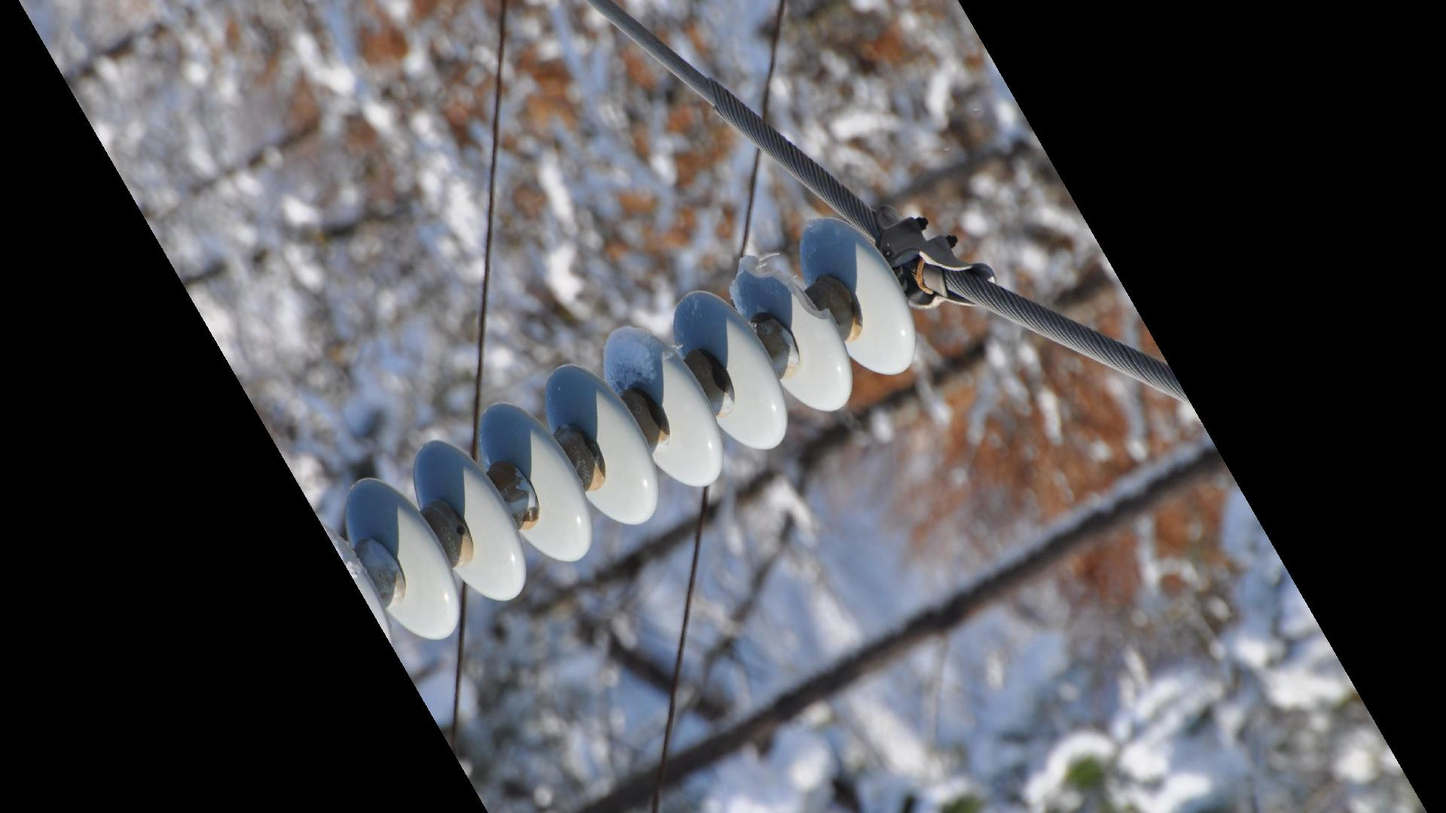insulator: (322, 212, 923, 649)
insulator_breakage: (719, 251, 847, 328)
